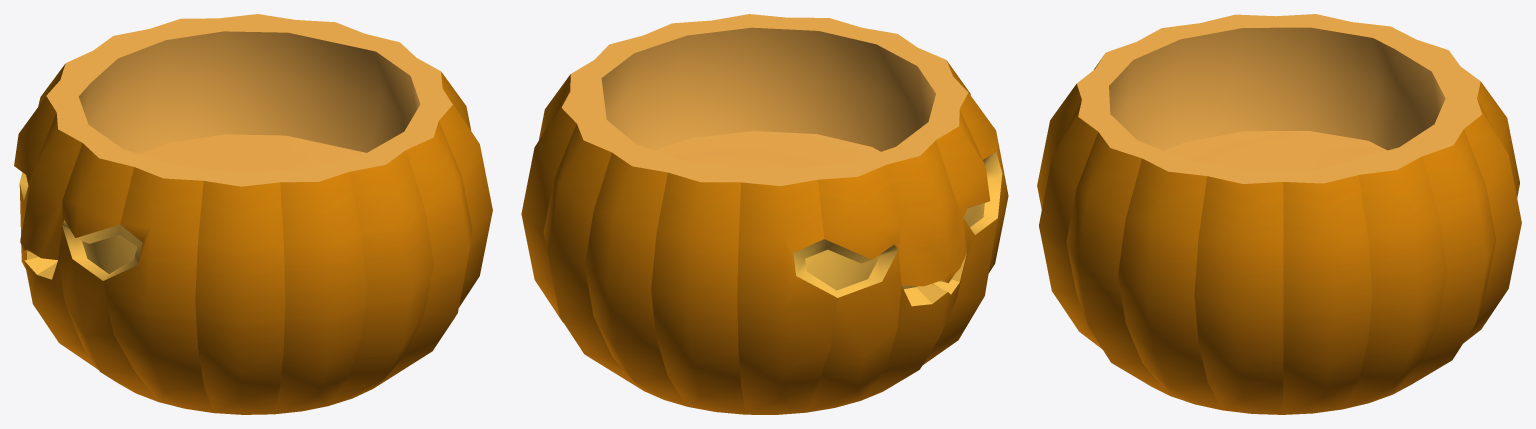
The model's file is Pumpkin_5.obj.
3 views of the same model, side by side, from view 1: azimuth 30°, elevation 25°; view 2: azimuth 150°, elevation 25°; view 3: azimuth 270°, elevation 25° (orthographic).
Parts seen in each view (by area): view 1: Pumpkin_5; view 2: Pumpkin_5; view 3: Pumpkin_5.
Part boxes in pixels (left/top/right/bottom): Pumpkin_5: left=14, top=14, right=492, bottom=414; Pumpkin_5: left=521, top=14, right=1008, bottom=414; Pumpkin_5: left=1037, top=14, right=1521, bottom=414.
Bounding box in the file's own units: 0.3345 × 0.2019 × 0.3366.
